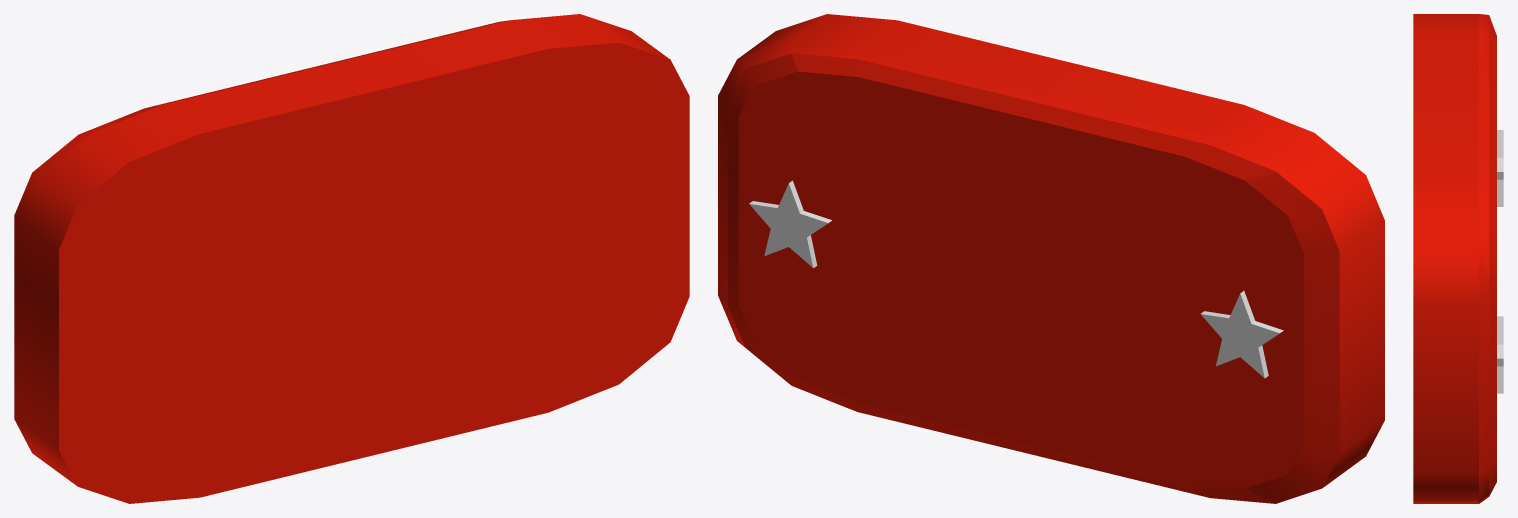
File: botonplayVRBOX1.fbx
The picture shows the model from 3 angles, left to right: view 1: azimuth 30°, elevation 25°; view 2: azimuth 150°, elevation 25°; view 3: azimuth 270°, elevation 25°; orthographic projection. The views are drawn at different scales.
Parts seen in each view (by area): view 1: Cube; view 2: Cube, Circle, Circle.001; view 3: Cube, Circle, Circle.001.
Boxes of the visible parts, x1,y1,x2,y2 form: Cube: (14, 14, 689, 503); Cube: (718, 14, 1384, 503); Circle: (749, 180, 831, 268); Circle.001: (1201, 291, 1283, 378); Cube: (1413, 14, 1496, 503); Circle: (1497, 316, 1503, 393); Circle.001: (1497, 130, 1503, 206).
Bounding box in the file's own units: 54.41 × 30 × 8.01.
